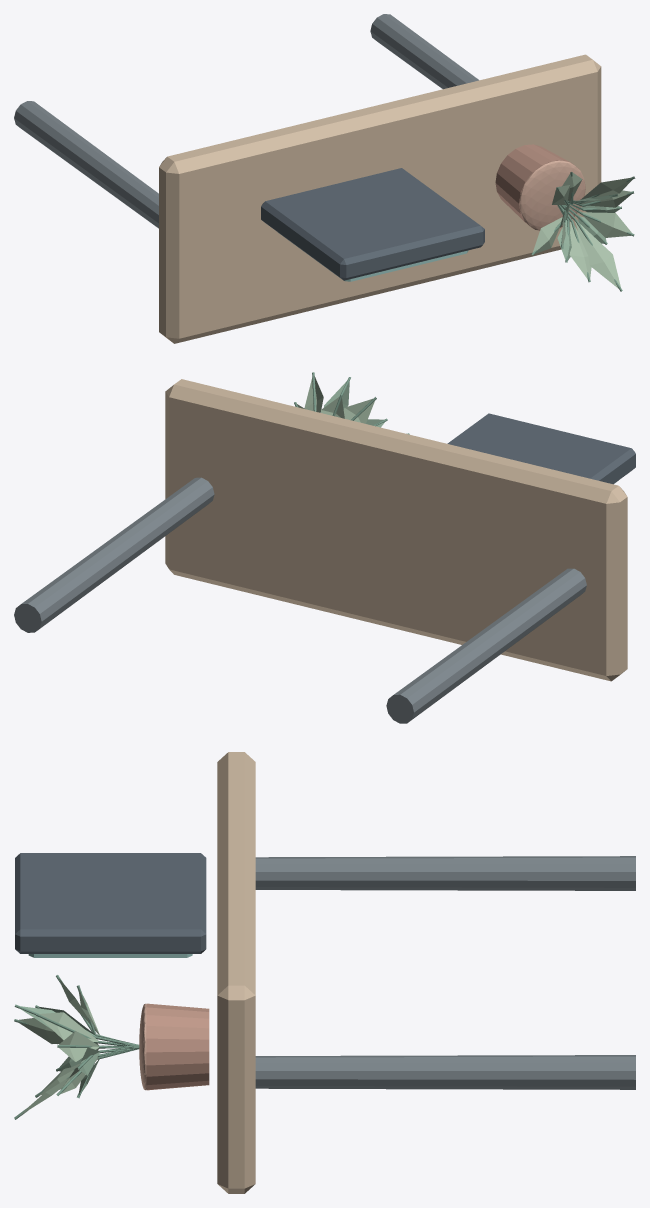
File: prop-entry.glb
3 renders of one model, top to bottom at view 1: azimuth 30°, elevation 25°; view 2: azimuth 150°, elevation 25°; view 3: azimuth 270°, elevation 25°, orthographic. The views are drawn at different scales.
Visible parts, largest first — view 1: 0000__entry_table, 0003__tablet, 0001__entry_leg, 0002__entry_leg, 0006__planter_lip, 0005__ceramic_planter, 0031__sculpted_leaf, 0035__sculpted_leaf, 0029__sculpted_leaf, 0013__sculpted_leaf, 0025__sculpted_leaf; view 2: 0000__entry_table, 0001__entry_leg, 0002__entry_leg, 0003__tablet; view 3: 0003__tablet, 0000__entry_table, 0001__entry_leg, 0002__entry_leg, 0005__ceramic_planter, 0013__sculpted_leaf, 0004__tablet_glass.
Part boxes in pixels (bbox=[...]): 0000__entry_table: bbox=[159, 54, 601, 343]; 0003__tablet: bbox=[261, 168, 484, 280]; 0001__entry_leg: bbox=[14, 101, 158, 228]; 0002__entry_leg: bbox=[370, 14, 478, 89]; 0006__planter_lip: bbox=[519, 160, 585, 230]; 0005__ceramic_planter: bbox=[495, 144, 578, 228]; 0031__sculpted_leaf: bbox=[575, 221, 620, 288]; 0035__sculpted_leaf: bbox=[582, 212, 632, 237]; 0029__sculpted_leaf: bbox=[569, 222, 591, 279]; 0013__sculpted_leaf: bbox=[580, 177, 632, 199]; 0025__sculpted_leaf: bbox=[533, 217, 562, 253]; 0000__entry_table: bbox=[165, 379, 627, 681]; 0001__entry_leg: bbox=[386, 568, 586, 723]; 0002__entry_leg: bbox=[14, 477, 214, 632]; 0003__tablet: bbox=[447, 413, 635, 484]; 0003__tablet: bbox=[15, 853, 206, 953]; 0000__entry_table: bbox=[217, 752, 255, 1193]; 0001__entry_leg: bbox=[255, 856, 635, 890]; 0002__entry_leg: bbox=[255, 1055, 635, 1089]; 0005__ceramic_planter: bbox=[146, 1003, 209, 1090]; 0013__sculpted_leaf: bbox=[36, 1012, 98, 1042]; 0004__tablet_glass: bbox=[28, 954, 192, 957].
Bounding box in the file's own units: 1.05 × 0.42 × 1.14.
